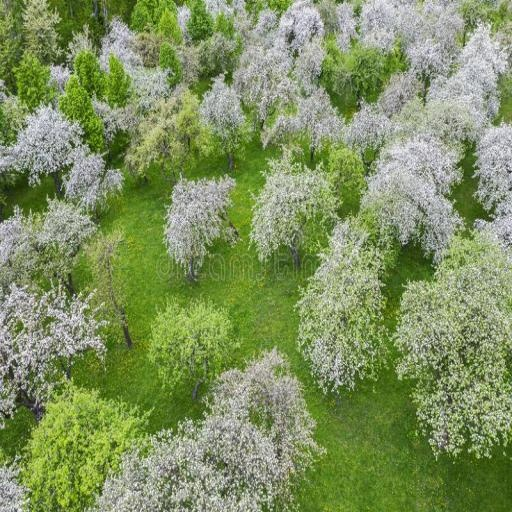tree-top: (404, 268, 510, 448), (10, 383, 135, 510), (211, 342, 313, 496), (302, 223, 384, 390), (0, 291, 99, 413), (113, 434, 252, 512), (372, 144, 457, 250), (248, 158, 325, 262), (160, 174, 230, 279), (158, 303, 232, 387), (38, 193, 95, 294), (134, 98, 209, 171), (428, 70, 488, 142), (467, 127, 512, 220), (16, 106, 78, 166), (328, 38, 388, 100), (244, 45, 296, 115), (0, 209, 41, 291), (66, 149, 117, 213), (202, 78, 251, 144), (478, 120, 512, 210), (297, 83, 337, 154), (346, 94, 387, 162), (282, 0, 326, 47), (24, 0, 58, 57), (67, 88, 104, 138), (407, 39, 445, 85), (14, 58, 46, 109), (377, 75, 414, 118), (101, 57, 131, 109), (92, 227, 126, 271), (188, 0, 220, 41), (157, 40, 186, 80), (78, 48, 102, 88), (156, 9, 185, 39), (44, 60, 66, 90)
